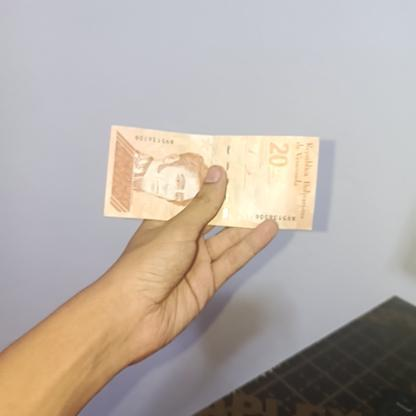twenty-front-vef: (103, 123, 320, 231)
